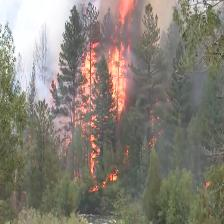fire: (112, 48, 125, 110), (85, 52, 95, 109)
